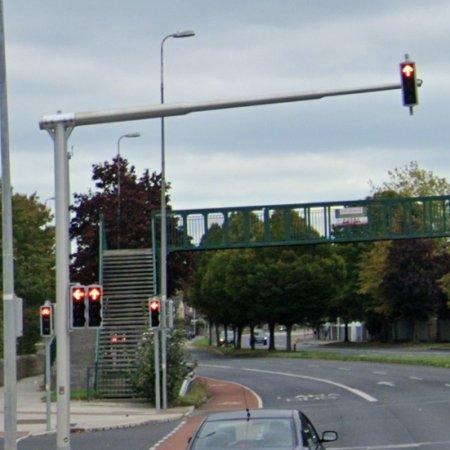traffic lights: (401, 61, 419, 105)
